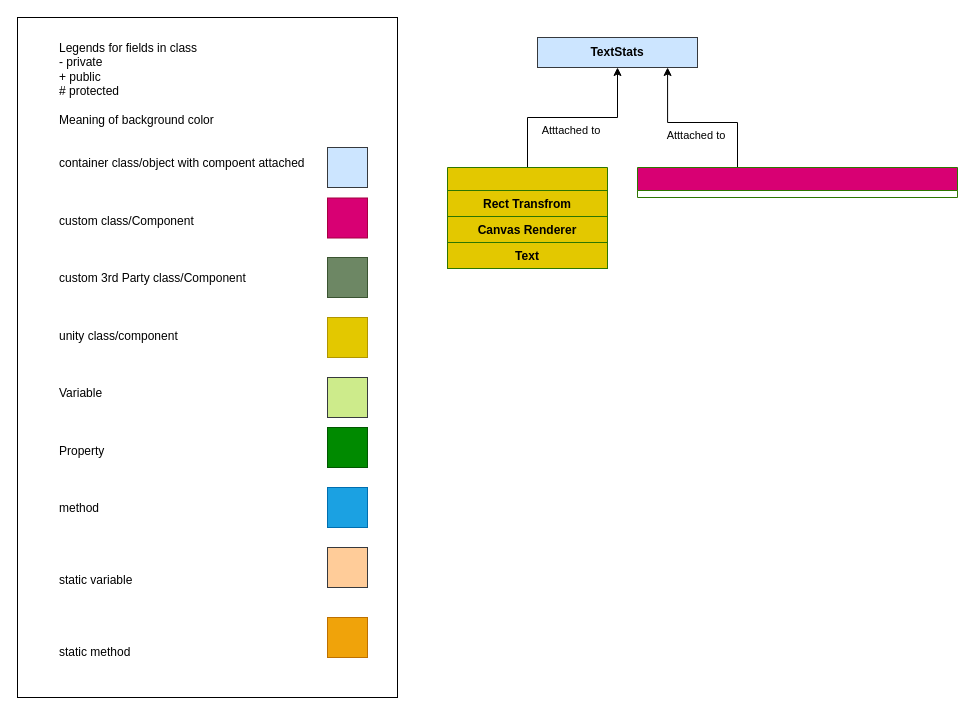
Some shapes in this 975 by 715 pixel diagram are drawn without their labels. The box of each missing label's shape, as (x1, y1, x2, y2) in pixels:
Unity Components: (446, 166, 608, 268)
UpdateStatsText (see ComponentMenuDiagramm ): (636, 166, 958, 198)
